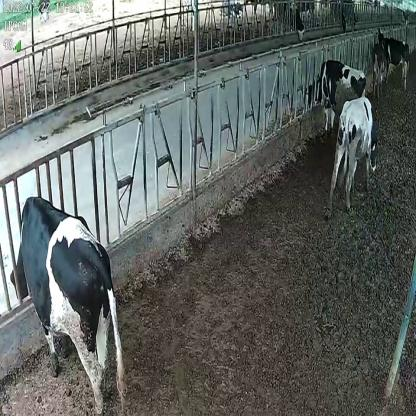cow: (8, 194, 128, 416), (326, 97, 378, 216), (304, 57, 367, 137)
